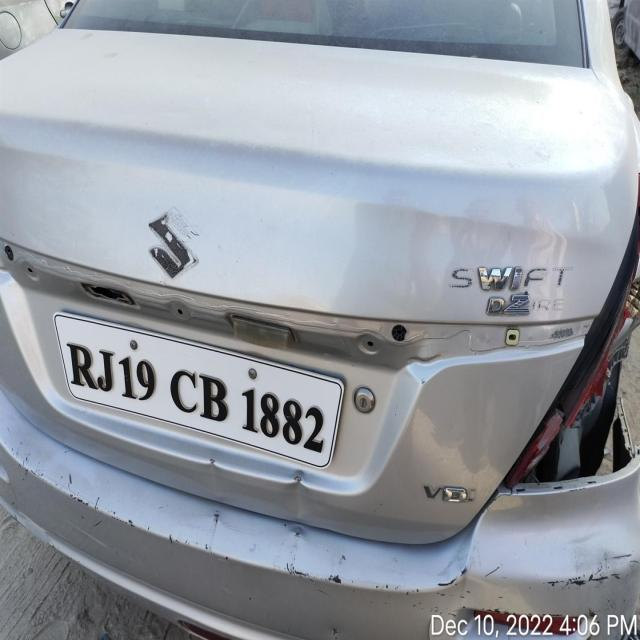damage: (0, 237, 594, 366), (508, 234, 639, 496), (288, 469, 308, 534)
